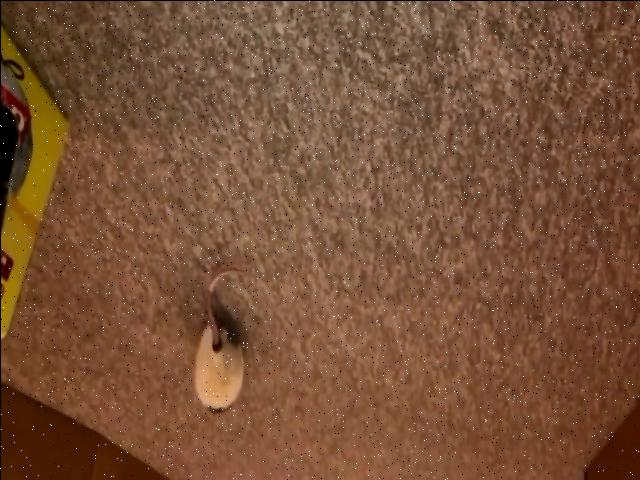Tikus: (187, 259, 247, 420)
